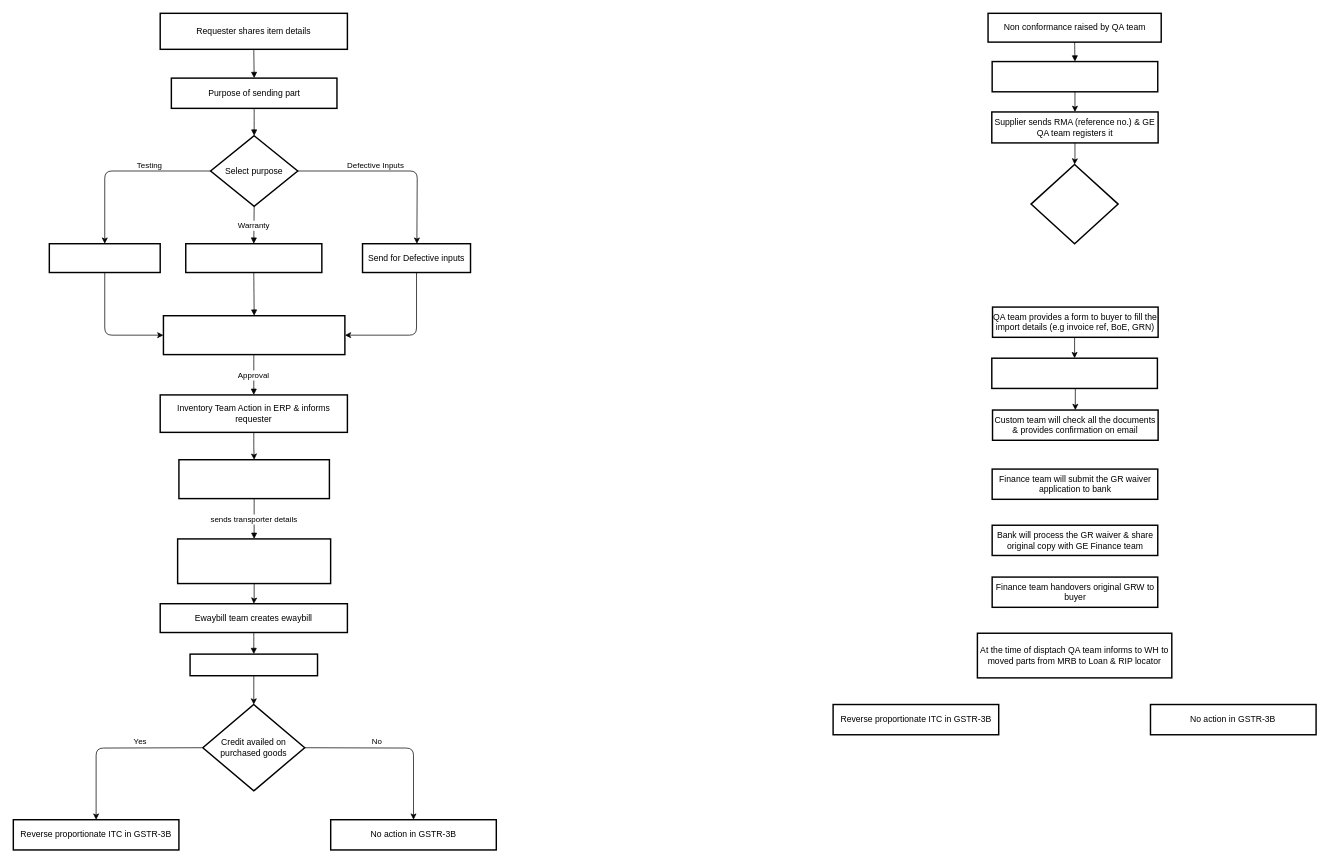
The diagram is 1329 pixels wide and 863 high, and some of its shapes have lost their labels. The centre of each missing label's shape, as x and y in pixels:
Buyer takes CoE leader approval keeping Finance team in loop: (x=1074, y=373)
Dispatch Team creates NRGP challan & shares with E-waybill team: (x=254, y=561)
Finance Controller review & approval: (x=253, y=335)
Goods Dispatch: (x=253, y=664)
Requester sends DRF to Dispatch team: (x=254, y=479)
Returnable criteria: (x=1074, y=203)
Send for Testing: (x=104, y=258)
Send for Warranty: (x=253, y=258)
WH team moves material from RM locator to MRB locator: (x=1074, y=76)
